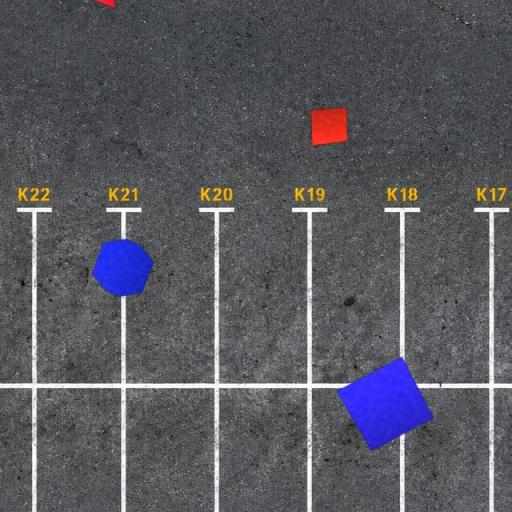BLUE_SQUARE: (336, 355, 434, 451)
RED_SQUARE: (310, 108, 348, 146)
